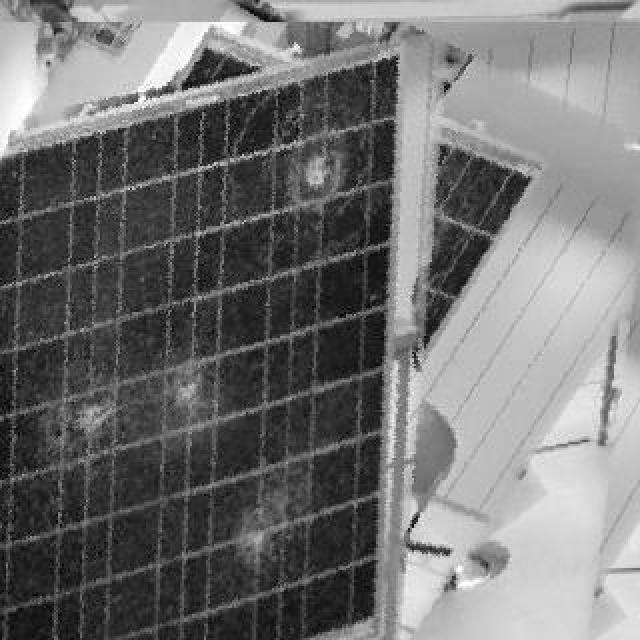Physical-damage: (244, 115, 380, 232), (54, 366, 123, 470), (224, 487, 296, 585), (155, 351, 224, 435)
